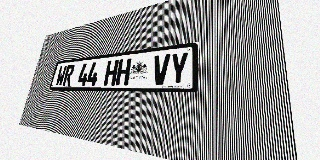4: (86, 62, 100, 86), (77, 63, 90, 86)
H: (115, 58, 132, 85), (103, 59, 119, 85)
R: (62, 64, 75, 86)
V: (151, 54, 170, 85)
W: (55, 65, 67, 86)
Y: (169, 52, 189, 85)
